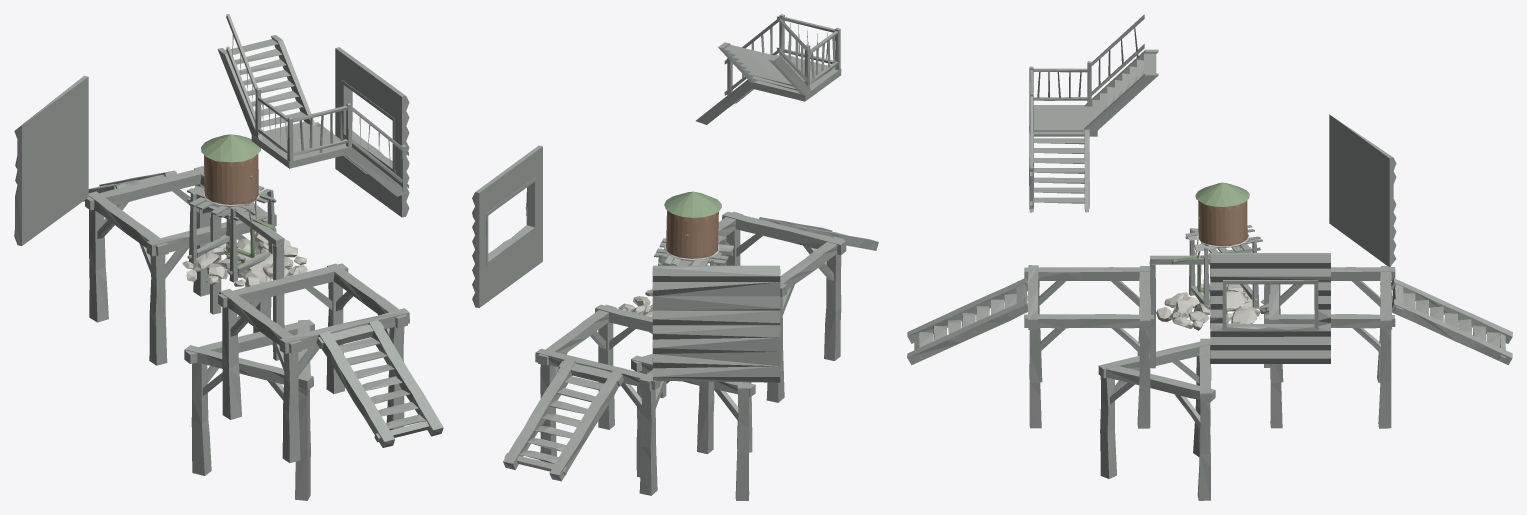
The model's file is water_well_c-map.glb.
3 views of the same model, side by side, from view 1: azimuth 30°, elevation 25°; view 2: azimuth 150°, elevation 25°; view 3: azimuth 270°, elevation 25° (orthographic). The views are drawn at different scales.
Parts seen in each view (by area): view 1: water_well_LOD0; view 2: water_well_LOD0; view 3: water_well_LOD0.
Boxes of the visible parts, left/top/right/bottom form: water_well_LOD0: left=14, top=14, right=443, bottom=500; water_well_LOD0: left=472, top=14, right=878, bottom=500; water_well_LOD0: left=907, top=14, right=1512, bottom=500.
Size of the model in its own units: 8.51 by 12 by 15.09.
